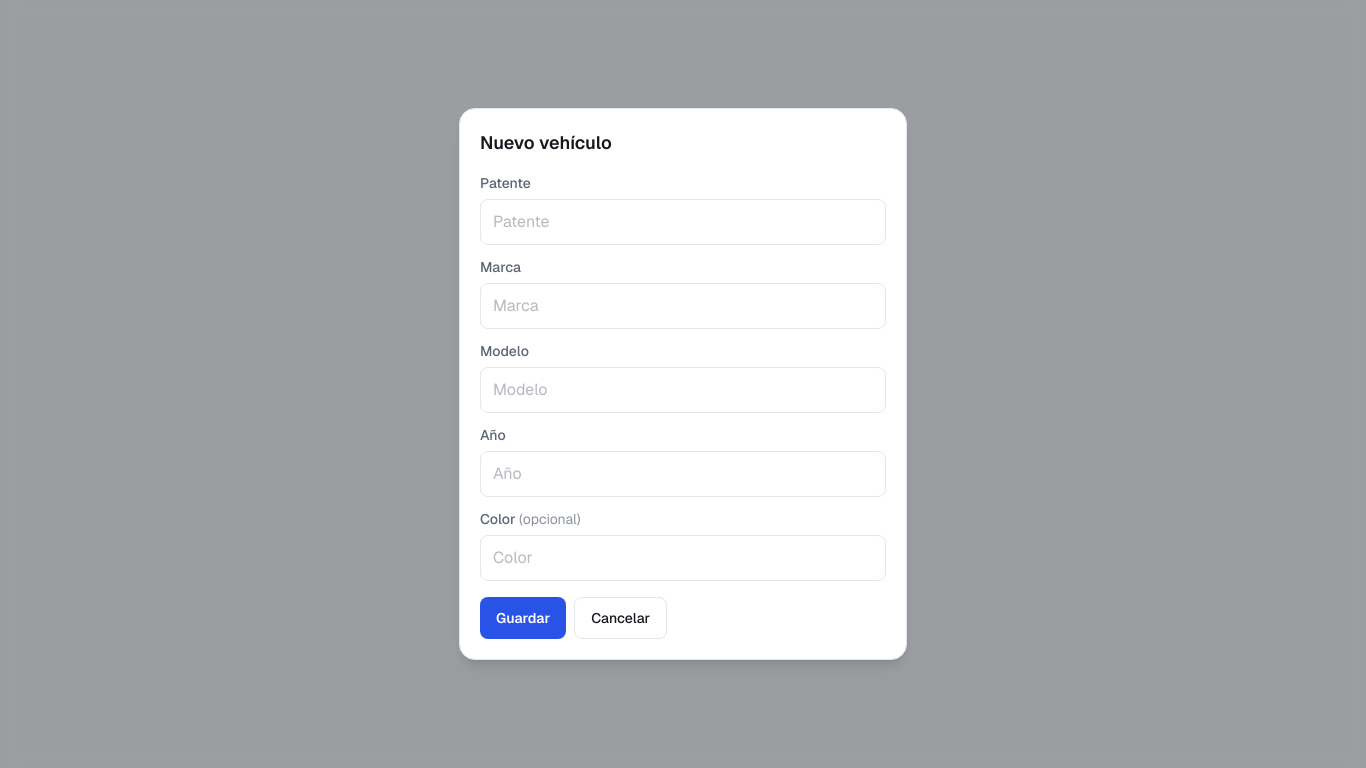
Scenario: Escape en el campo Marca, dentro del modal real › con la lista de sugerencias desplegada, cierra la lista pero NO el modal
This screenshot has width=1366, height=768.
Step 1. Type "sub" into the dropdown with placeholder "Marca" → (683, 306), box [480, 283, 886, 329]
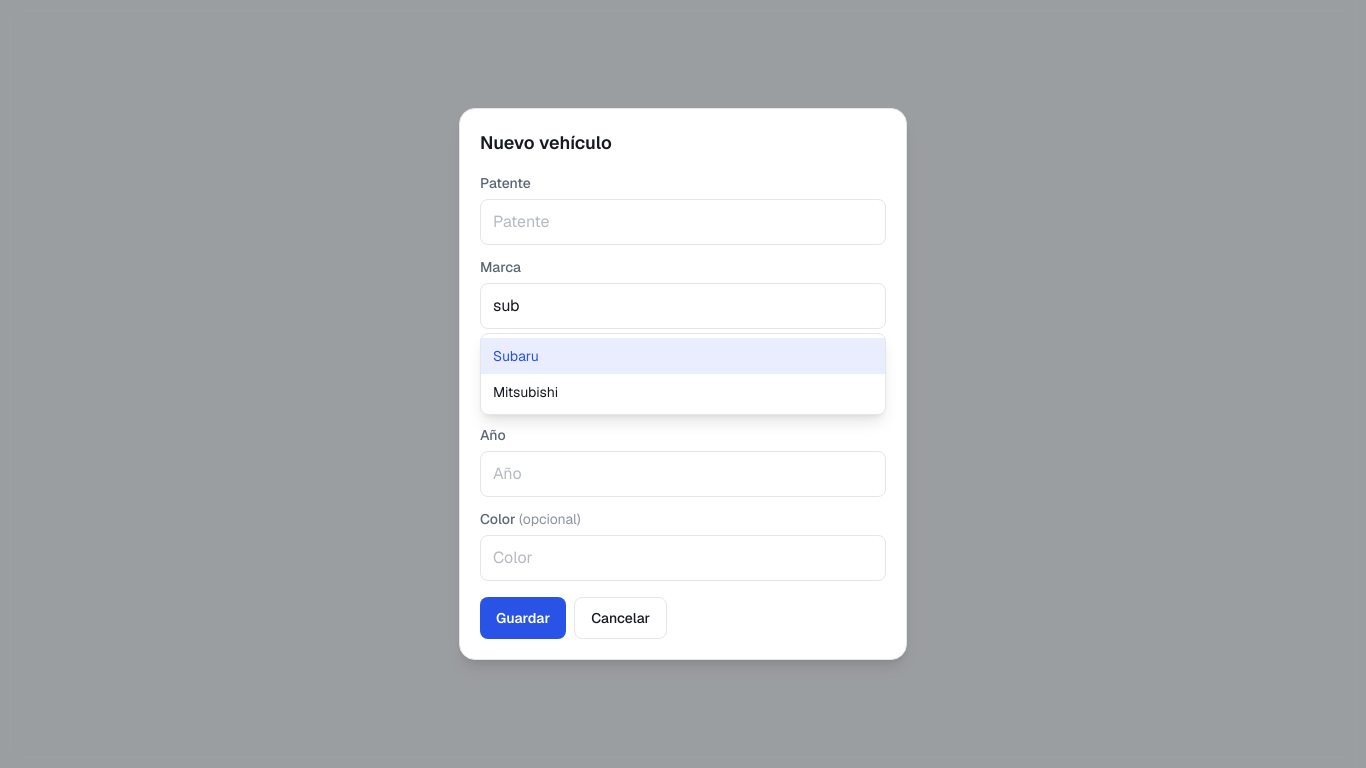
Result: the option "Subaru" is shown at [481, 338, 885, 374]
Step 2. Press Escape in the dropdown with placeholder "Marca", box [480, 283, 886, 329]
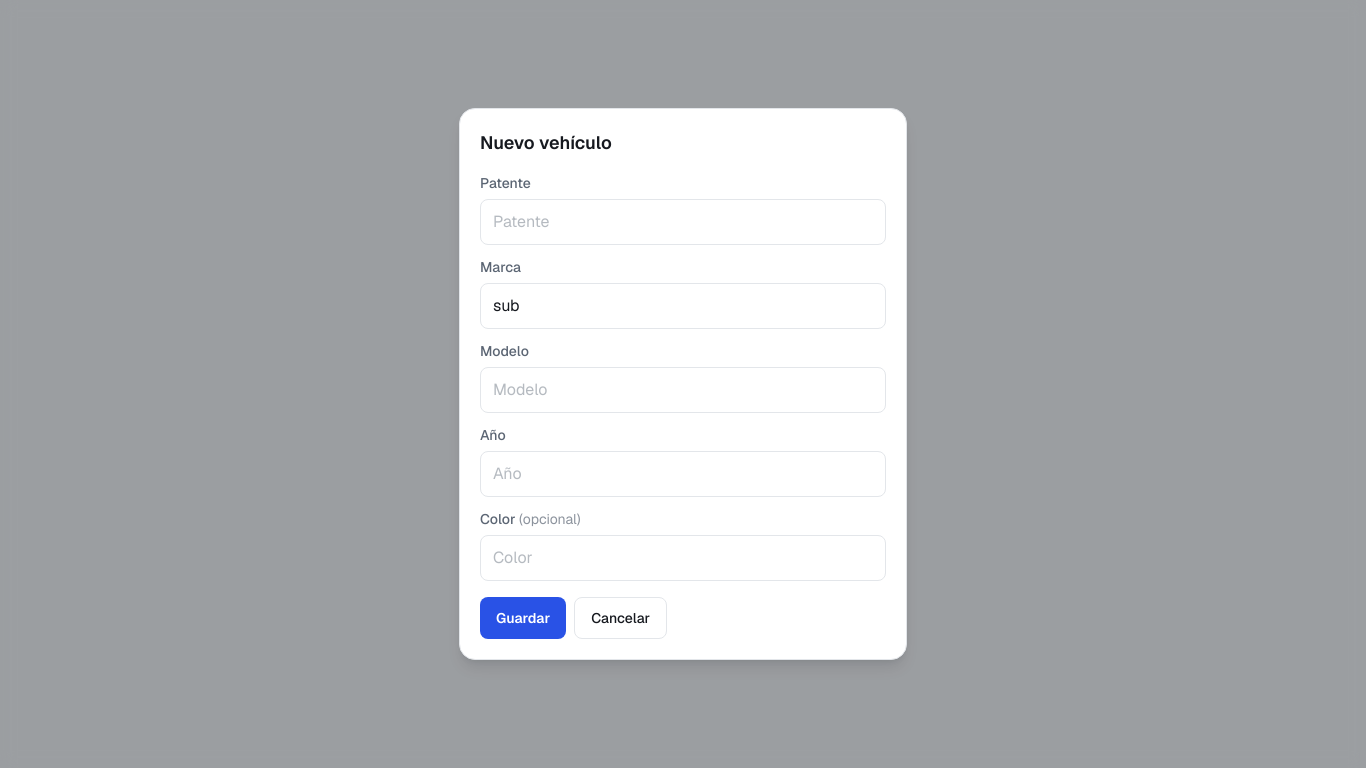
Result: no options are shown
